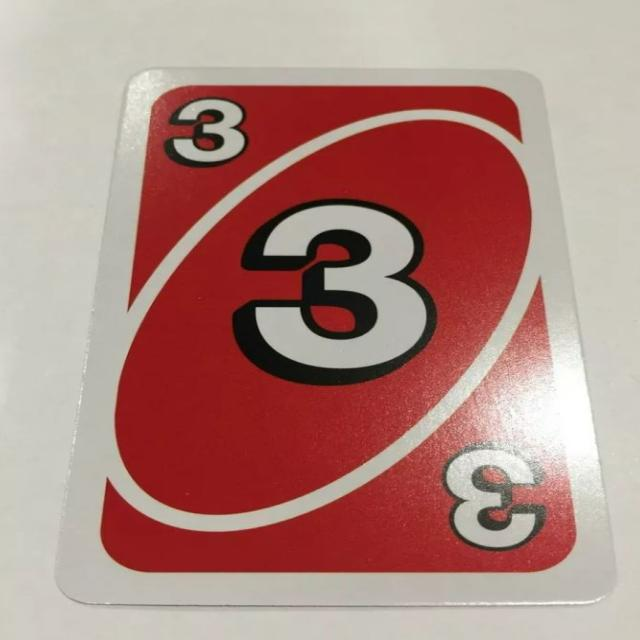Number_3: (165, 89, 252, 173)
Red_Card: (94, 74, 582, 580)
